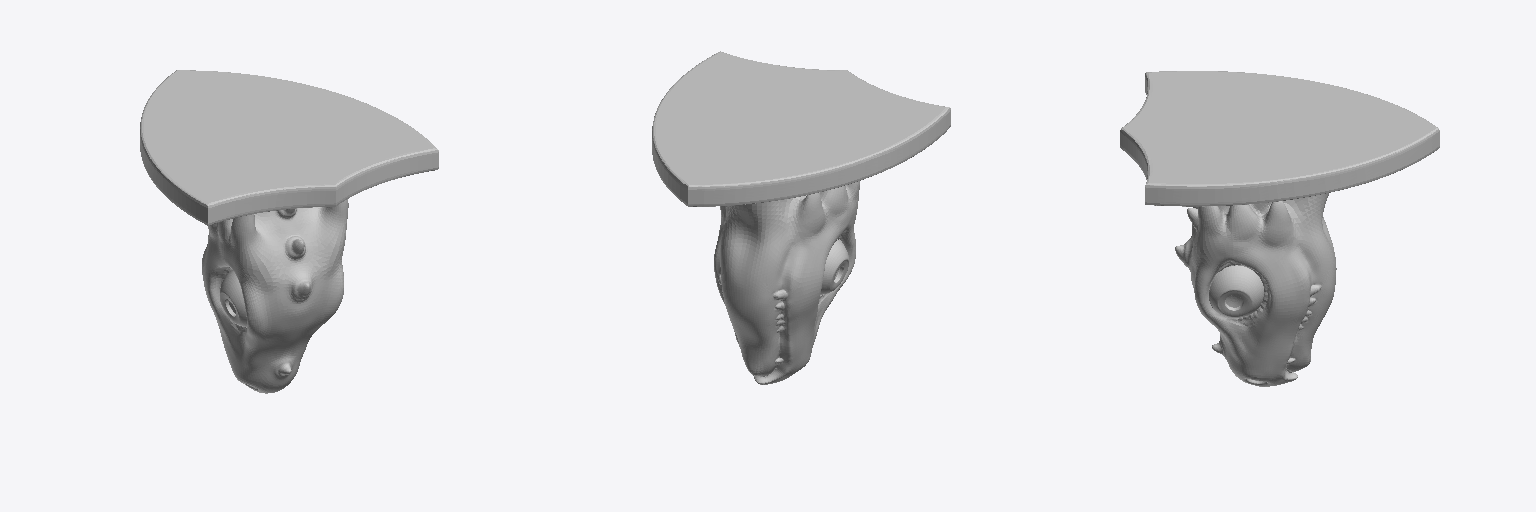
File: dragon.obj
The picture shows the model from 3 angles: view 1: azimuth 30°, elevation 25°; view 2: azimuth 150°, elevation 25°; view 3: azimuth 270°, elevation 25°; orthographic projection.
Visible parts, largest first — view 1: Baby_Dragon; view 2: Baby_Dragon; view 3: Baby_Dragon.
Boxes of the visible parts, x1,y1,x2,y2 form: Baby_Dragon: [140, 70, 438, 393]; Baby_Dragon: [652, 51, 950, 384]; Baby_Dragon: [1120, 71, 1439, 386].
Bounding box in the file's own units: 21.4 × 22.05 × 24.9.